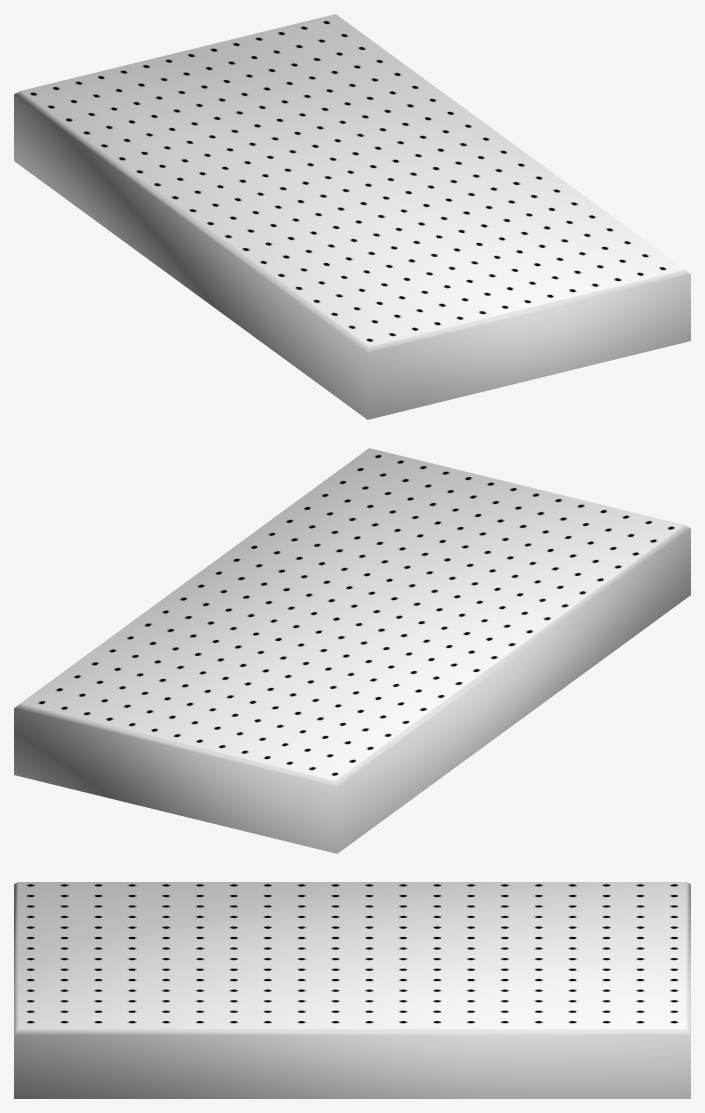
File: WhitePlatformV2.fbx
3 renders of one model, top to bottom at view 1: azimuth 30°, elevation 25°; view 2: azimuth 150°, elevation 25°; view 3: azimuth 270°, elevation 25°, orthographic. The views are drawn at different scales.
Parts seen in each view (by area): view 1: WhitePlatform; view 2: WhitePlatform; view 3: WhitePlatform.
Part boxes in pixels (box(x1,y1,x2,y2)): WhitePlatform: box(14, 14, 690, 419); WhitePlatform: box(14, 448, 690, 853); WhitePlatform: box(14, 882, 690, 1098).
Bounding box in the file's own units: 0.357 × 0.0746 × 0.6763.
1 material, 1 textured.
